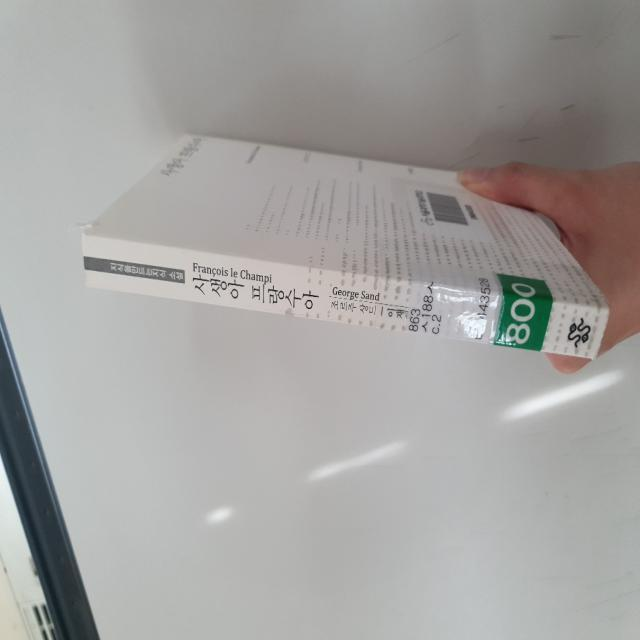Ripped: (66, 218, 103, 233)
Wornout: (602, 299, 614, 334), (590, 339, 603, 365)
